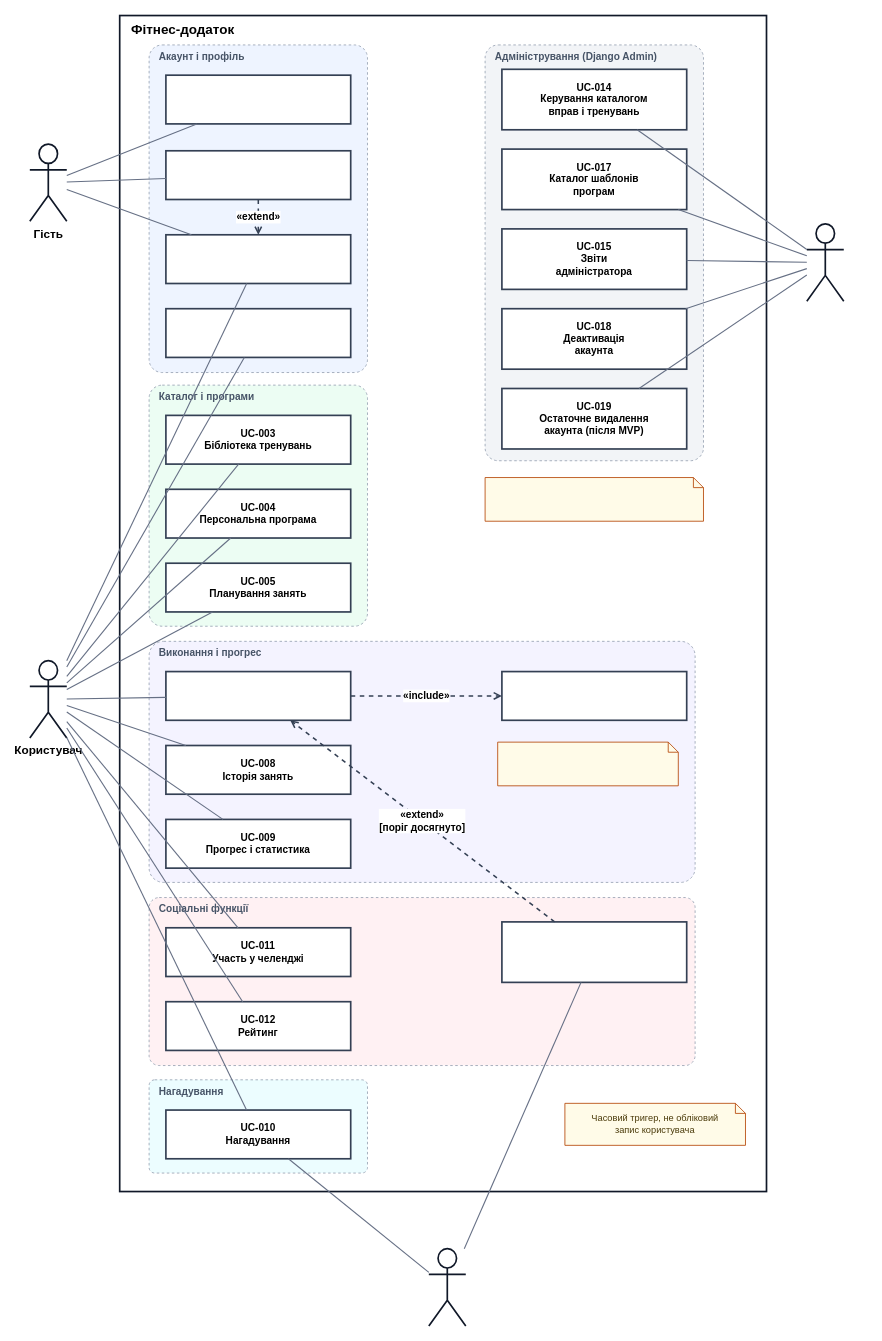
This 882x1341 diagram has some shape labels left out. The centre of each missing label's shape, as x and y in pixels:
E01: факти, kcal, бали та snapshots — атомарно: point (587, 763)
UC-001 Реєстрація: point (258, 99)
UC-002 Оновлення профілю: point (258, 332)
UC-006 Завершення заняття: point (258, 695)
UC-007 Результати вправ: point (594, 695)
UC-013 Нарахування досягнень: point (594, 952)
UC-015: R02 популярні тренування, R03 середня активність: point (594, 499)
UC-016 Вхід / вихід: point (258, 259)
UC-020 Відновлення пароля: point (258, 175)
Адміністратор: point (825, 262)
Система (планувальник): point (447, 1286)
